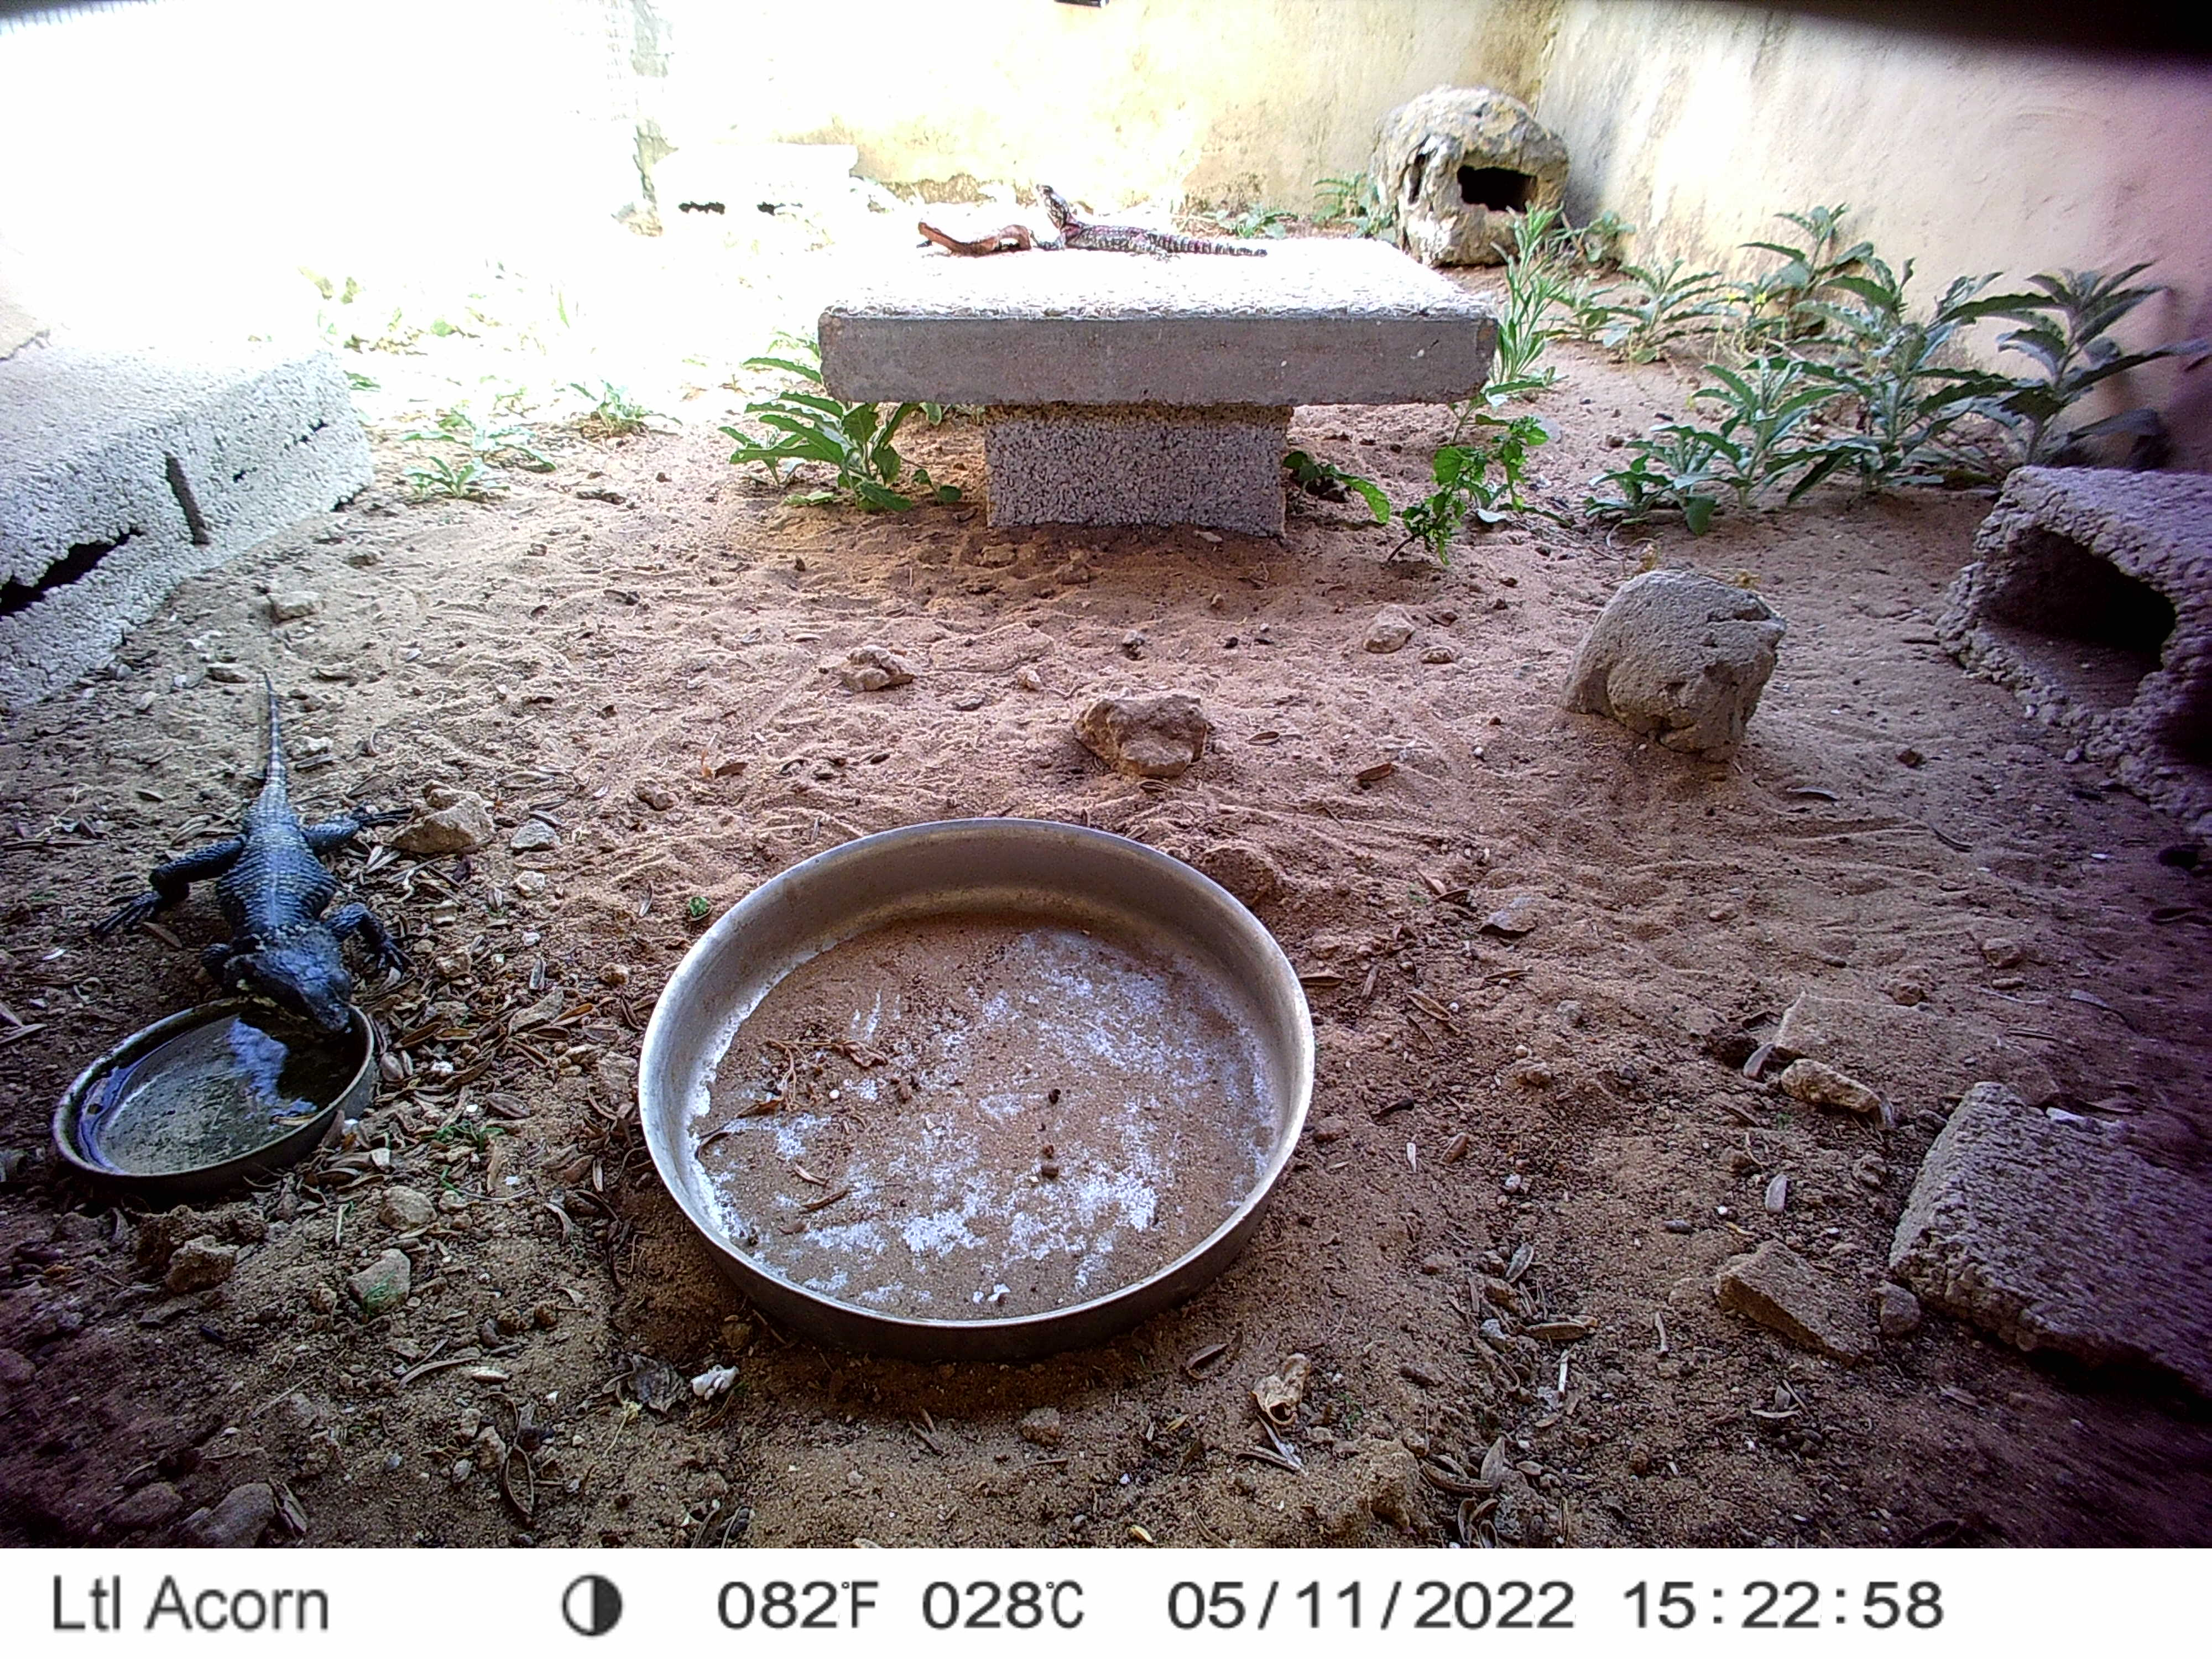lizard: (98, 666, 421, 1046), (1022, 176, 1277, 270)
